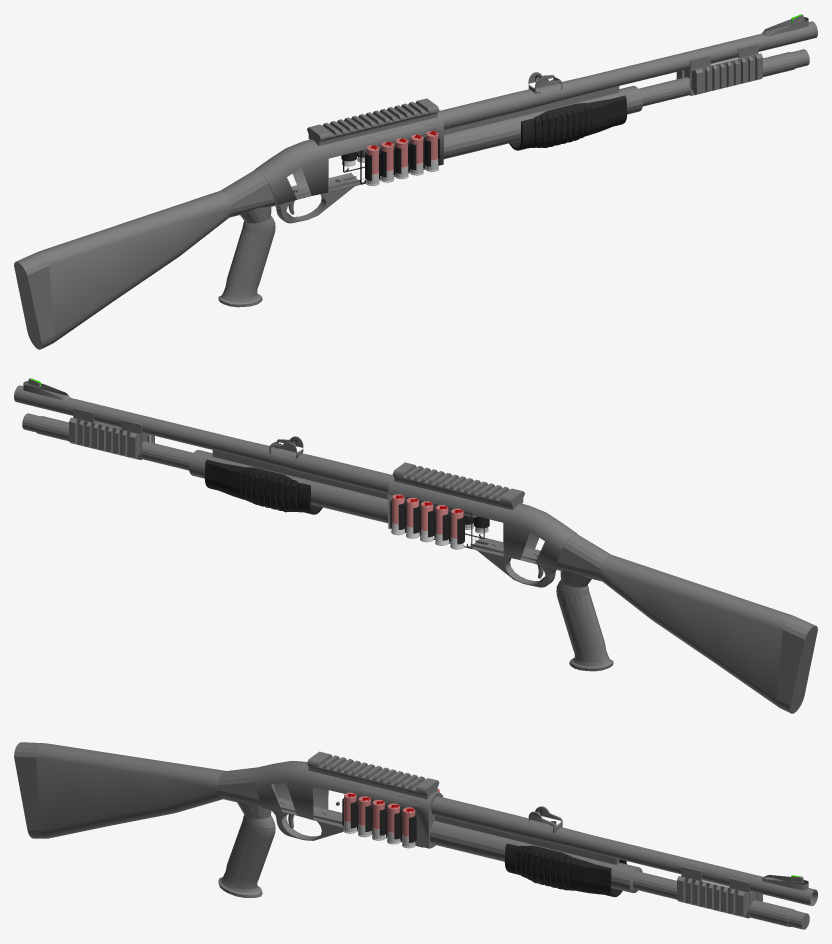
File: Shootgun.fbx
3 renders of one model, top to bottom at view 1: azimuth 30°, elevation 25°; view 2: azimuth 150°, elevation 25°; view 3: azimuth 330°, elevation 25°, orthographic.
Parts seen in each view (by area): view 1: 870mcs, 870mcs_pump, 870mcs_side shells.001, 870mcs_top rail, 870mcs_bolt; view 2: 870mcs, 870mcs_pump, 870mcs_side shells, 870mcs_top rail; view 3: 870mcs, 870mcs_pump, 870mcs_side shells.001, 870mcs_top rail, 870mcs_bolt.
Part boxes in pixels (<box>): 870mcs: <box>14,14,817,349</box>; 870mcs_pump: <box>509,95,627,150</box>; 870mcs_side shells.001: <box>360,131,439,185</box>; 870mcs_top rail: <box>307,98,439,145</box>; 870mcs_bolt: <box>356,125,427,157</box>; 870mcs: <box>14,378,817,713</box>; 870mcs_pump: <box>204,459,322,514</box>; 870mcs_side shells: <box>390,494,472,549</box>; 870mcs_top rail: <box>392,462,524,509</box>; 870mcs: <box>14,742,817,929</box>; 870mcs_pump: <box>504,843,626,897</box>; 870mcs_side shells.001: <box>342,792,422,848</box>; 870mcs_top rail: <box>307,751,439,799</box>; 870mcs_bolt: <box>356,788,412,812</box>.
Bounding box in the file's own units: 96.09 × 17.87 × 6.59.
